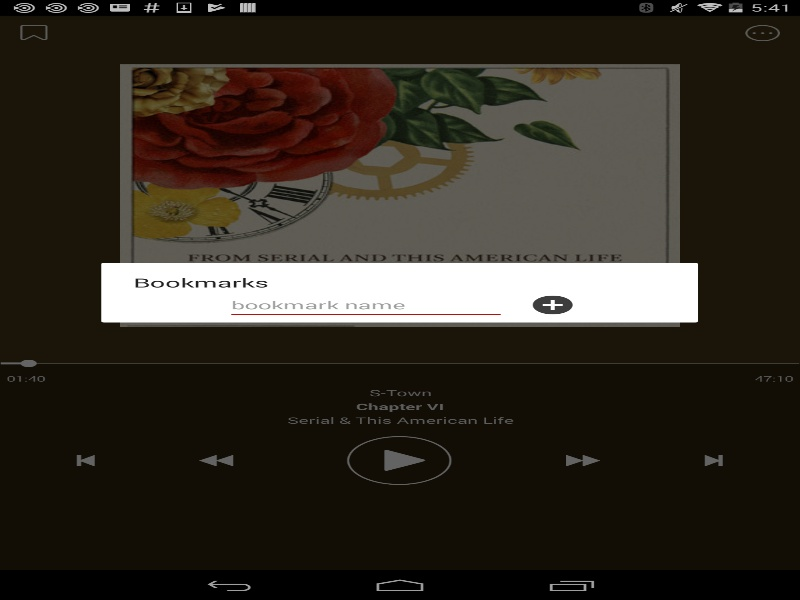Input: (225, 290, 505, 319)
